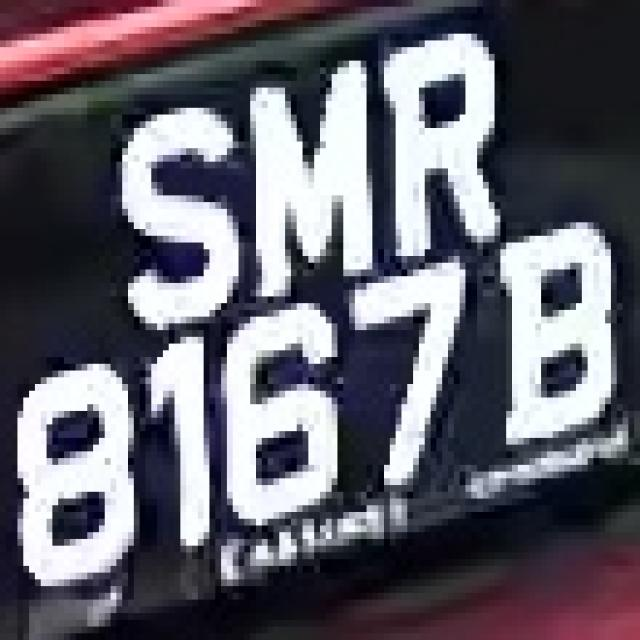1: (151, 330, 221, 553)
6: (215, 296, 344, 519)
7: (314, 270, 466, 498)
8: (17, 343, 152, 600)
B: (501, 209, 628, 465)
M: (221, 47, 384, 310)
R: (367, 34, 506, 270)
S: (99, 87, 244, 337)
